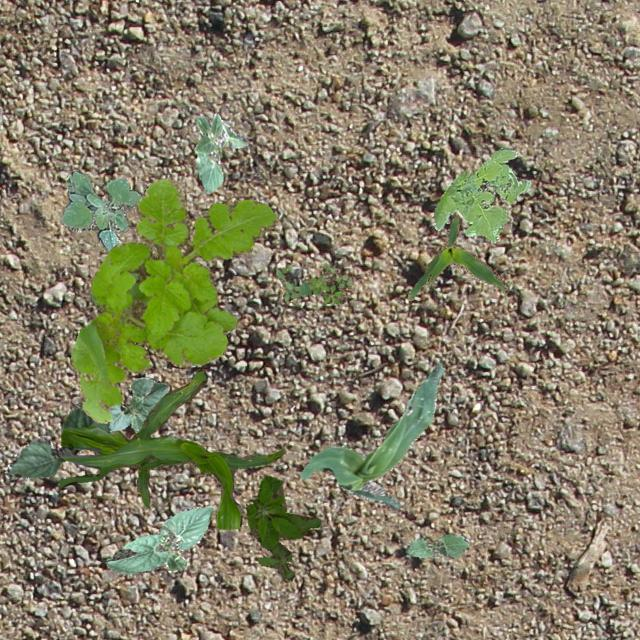crop: (59, 368, 282, 528), (300, 360, 442, 510), (407, 214, 508, 300), (3, 402, 108, 478), (105, 504, 212, 572), (194, 111, 246, 192), (106, 377, 166, 432), (404, 534, 468, 558)
weed: (70, 178, 276, 422), (434, 148, 530, 242), (246, 474, 320, 580), (60, 170, 140, 250), (276, 262, 352, 304)
